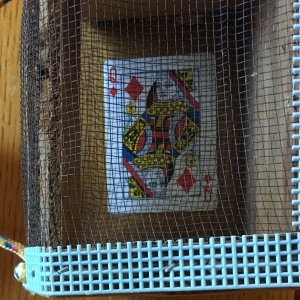card: (102, 55, 219, 214)
